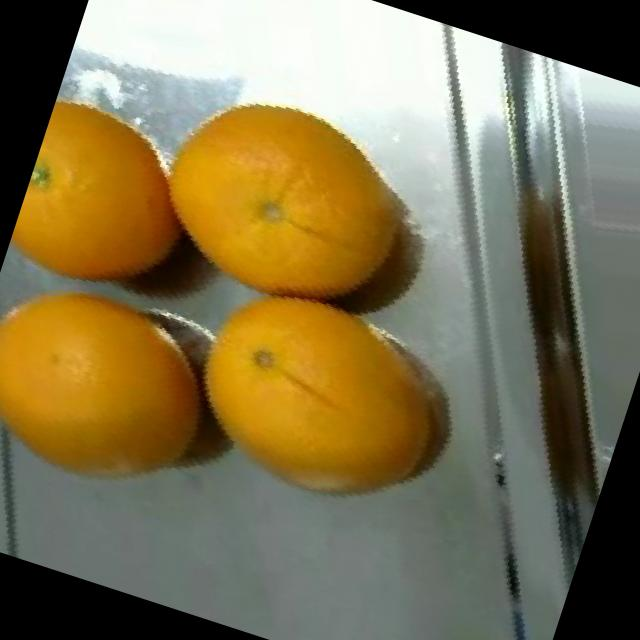Fruit: (9, 71, 234, 297)
